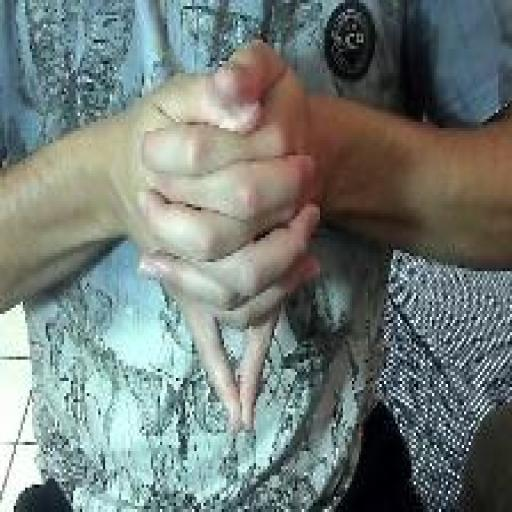Tatsu -dragon-: (133, 37, 329, 445)
